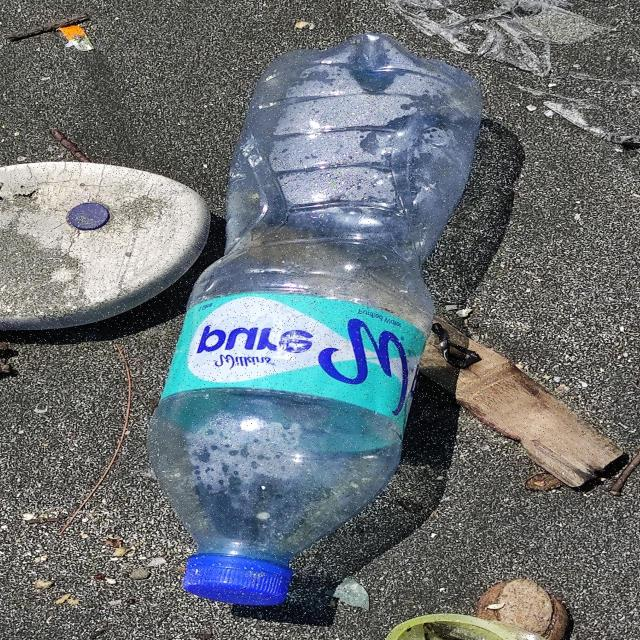plastic_waste: (150, 31, 491, 606)
rubber_waste: (1, 158, 209, 340)
